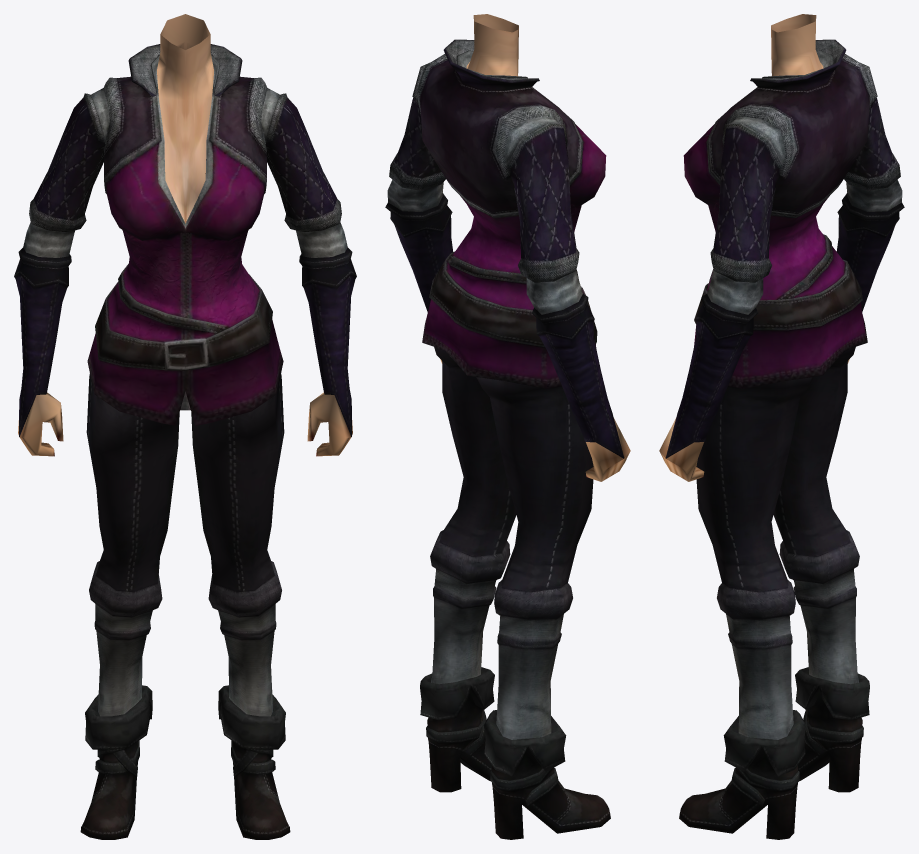
File: KOSA_TRISS_ROSE.glb
The picture shows the model from 3 angles, left to right: view 1: azimuth 30°, elevation 25°; view 2: azimuth 150°, elevation 25°; view 3: azimuth 270°, elevation 25°; orthographic projection.
Parts seen in each view (by area): view 1: KOSA_TRISS_ROSE; view 2: KOSA_TRISS_ROSE; view 3: KOSA_TRISS_ROSE.
Part boxes in pixels (left/top/right/bottom): KOSA_TRISS_ROSE: left=14, top=14, right=356, bottom=839; KOSA_TRISS_ROSE: left=385, top=14, right=630, bottom=839; KOSA_TRISS_ROSE: left=659, top=14, right=904, bottom=839.
Bounding box in the file's own units: 0.623 × 1.67 × 0.4705.
Materials: 2 (2 with a texture image).
